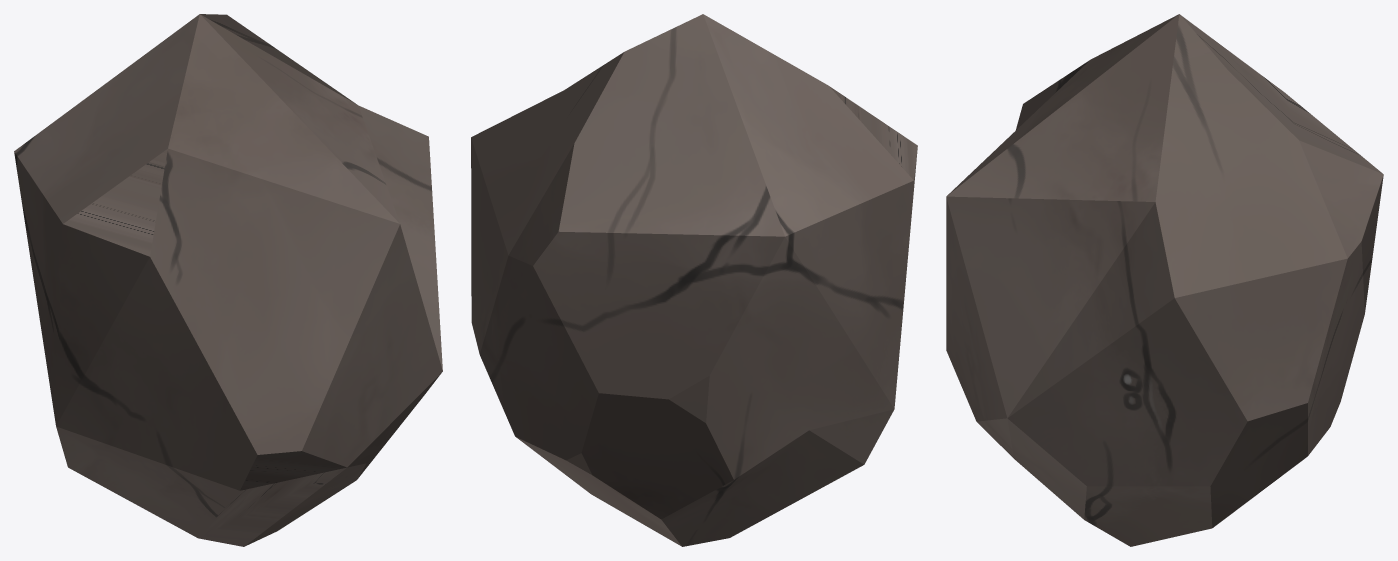
Rendered from Rock01-textured.fbx.
3 renders of one model, left to right at view 1: azimuth 30°, elevation 25°; view 2: azimuth 150°, elevation 25°; view 3: azimuth 270°, elevation 25°, orthographic. The views are drawn at different scales.
Visible parts, largest first — view 1: Rock-01-textured; view 2: Rock-01-textured; view 3: Rock-01-textured.
Part boxes in pixels (x1=…): Rock-01-textured: x1=14, y1=14, x2=442, y2=546; Rock-01-textured: x1=471, y1=14, x2=917, y2=546; Rock-01-textured: x1=946, y1=14, x2=1383, y2=546.
Size of the model in its own units: 185 by 227 by 178.
1 material, 1 textured.
